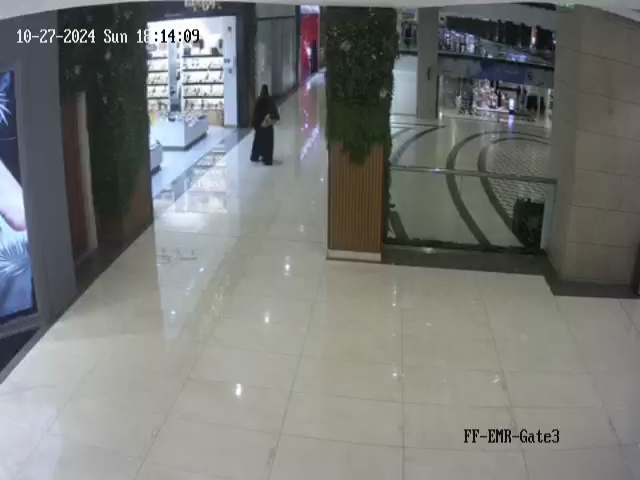female: (249, 84, 280, 166)
